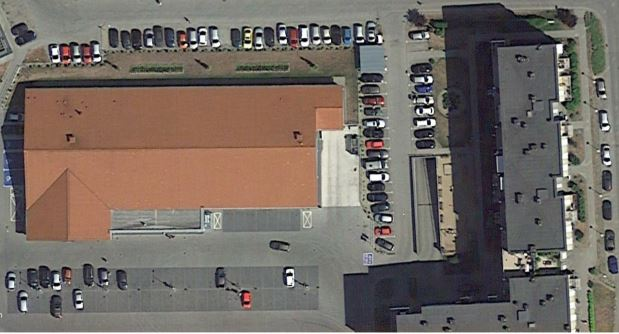block of flats: (482, 32, 582, 266), (389, 271, 580, 334)
shopping_center: (13, 73, 354, 244)
